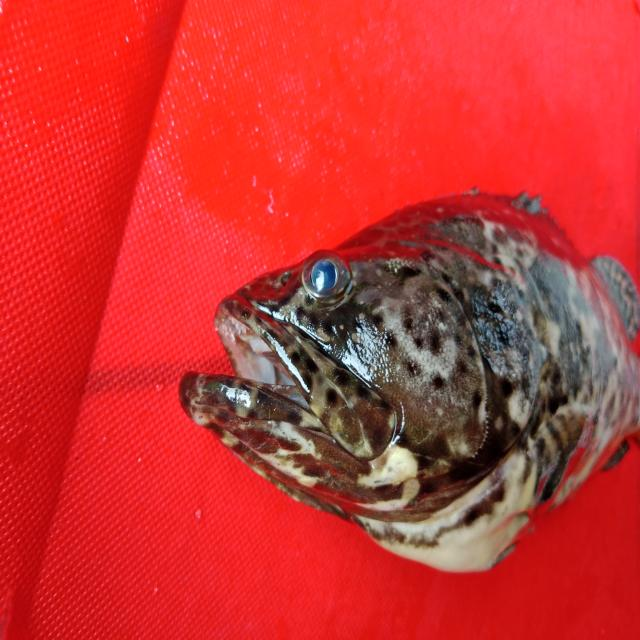ikan: (179, 178, 634, 586)
